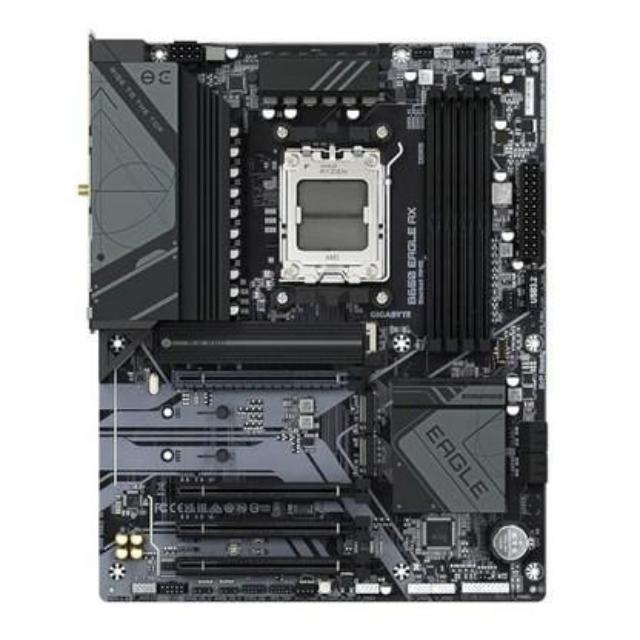Mainboard: (72, 24, 564, 618)
